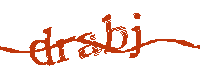a: (76, 33, 101, 59)
b: (101, 15, 128, 55)
d: (30, 26, 55, 68)
j: (129, 12, 142, 60)
r: (55, 36, 77, 63)
